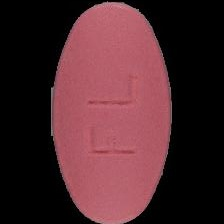16590-847: (0, 0, 224, 224)
